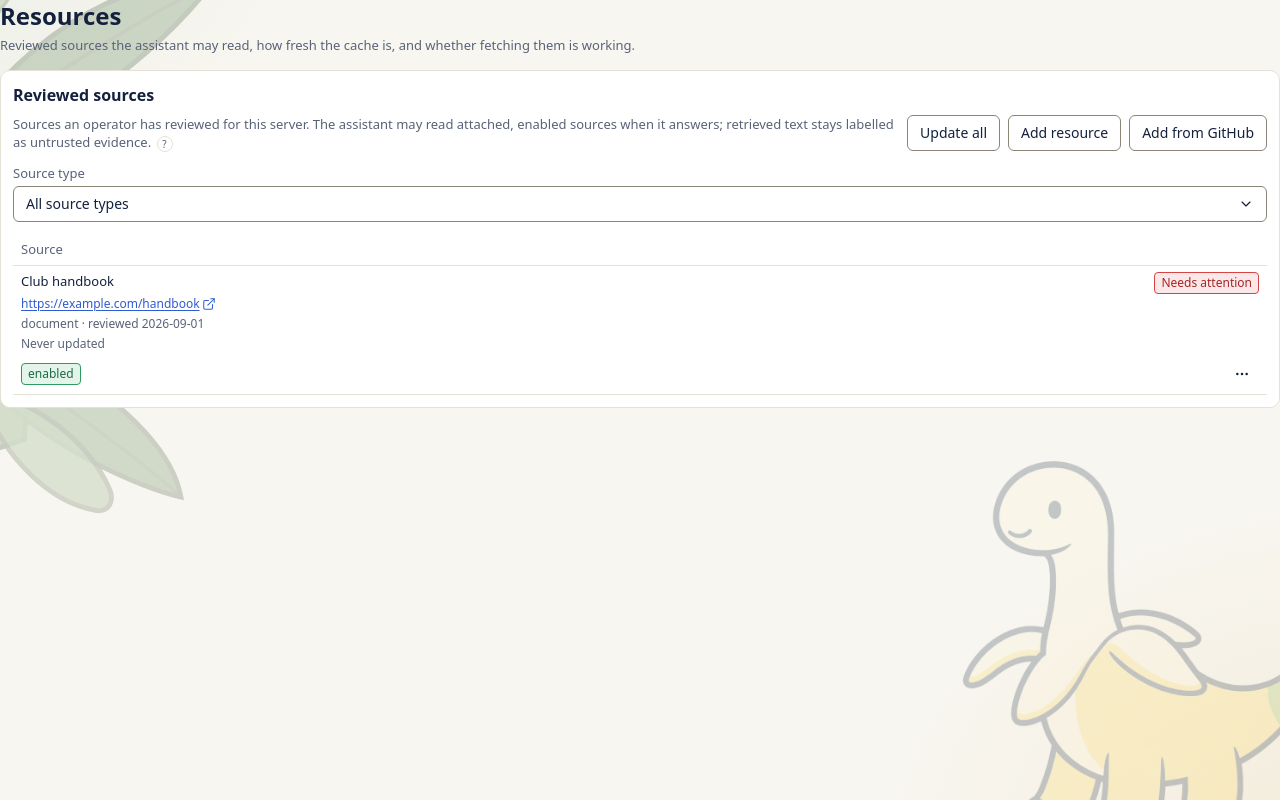
Test: uses the header fallback after successful save reloads the originating row
Click the button named "Actions for Club handbook" at [1242, 374], box [1225,360,1259,388]
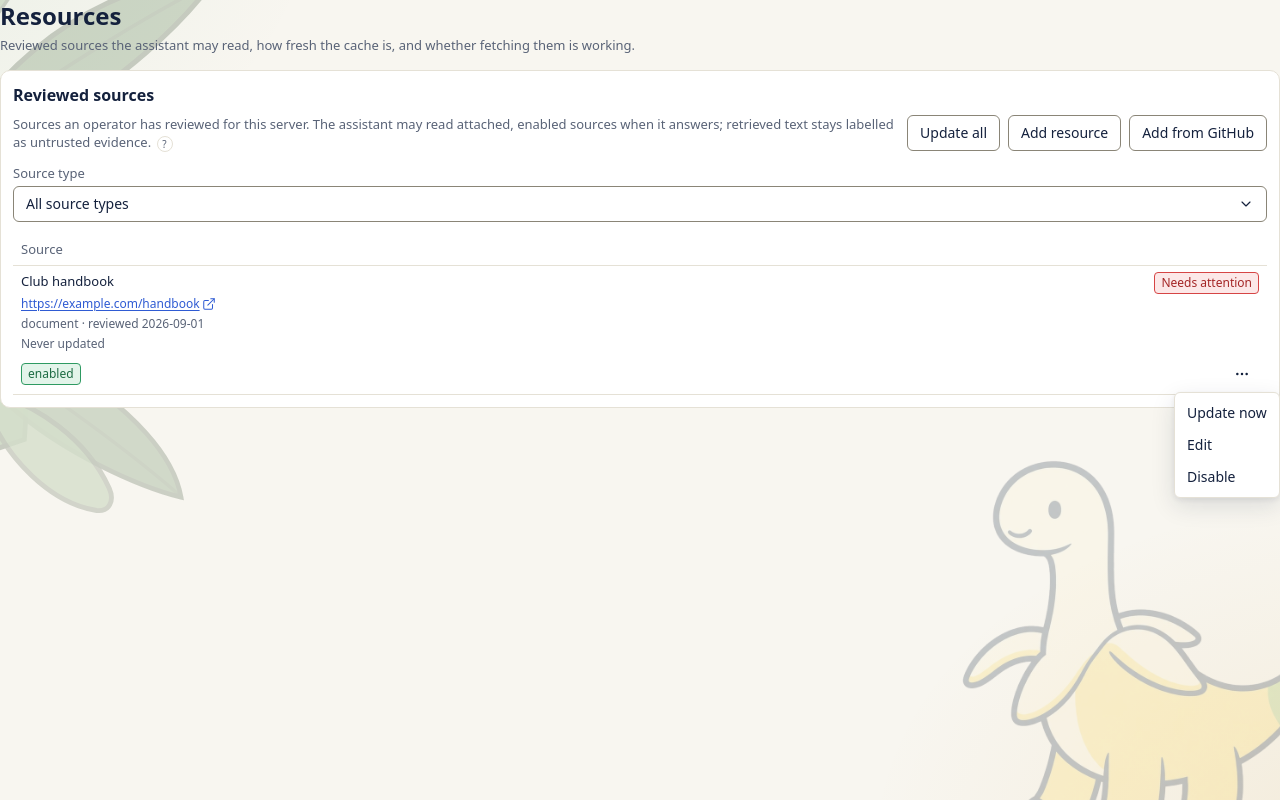
Click the menu item "Edit" at [1200, 444], box [1187,435,1212,454]
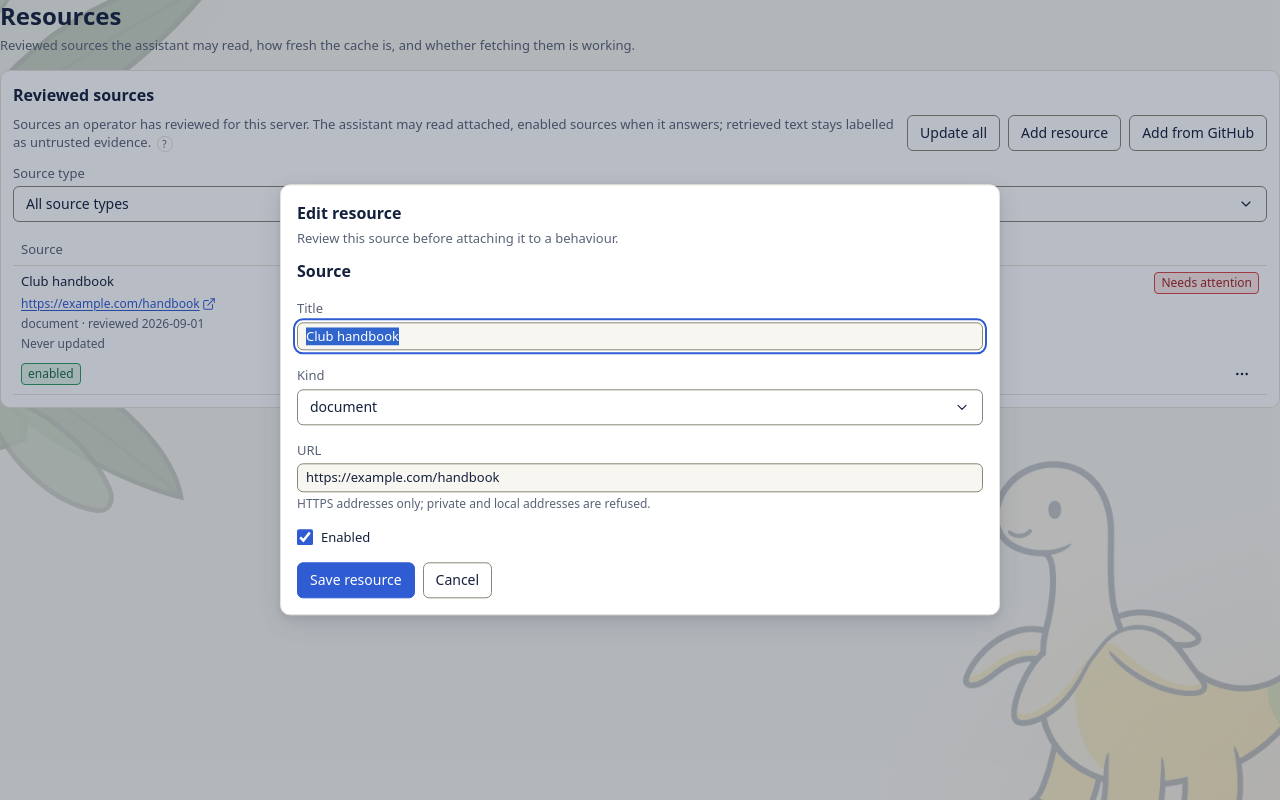
Click the button "Save resource" at [356, 581], box [297,563,414,599]
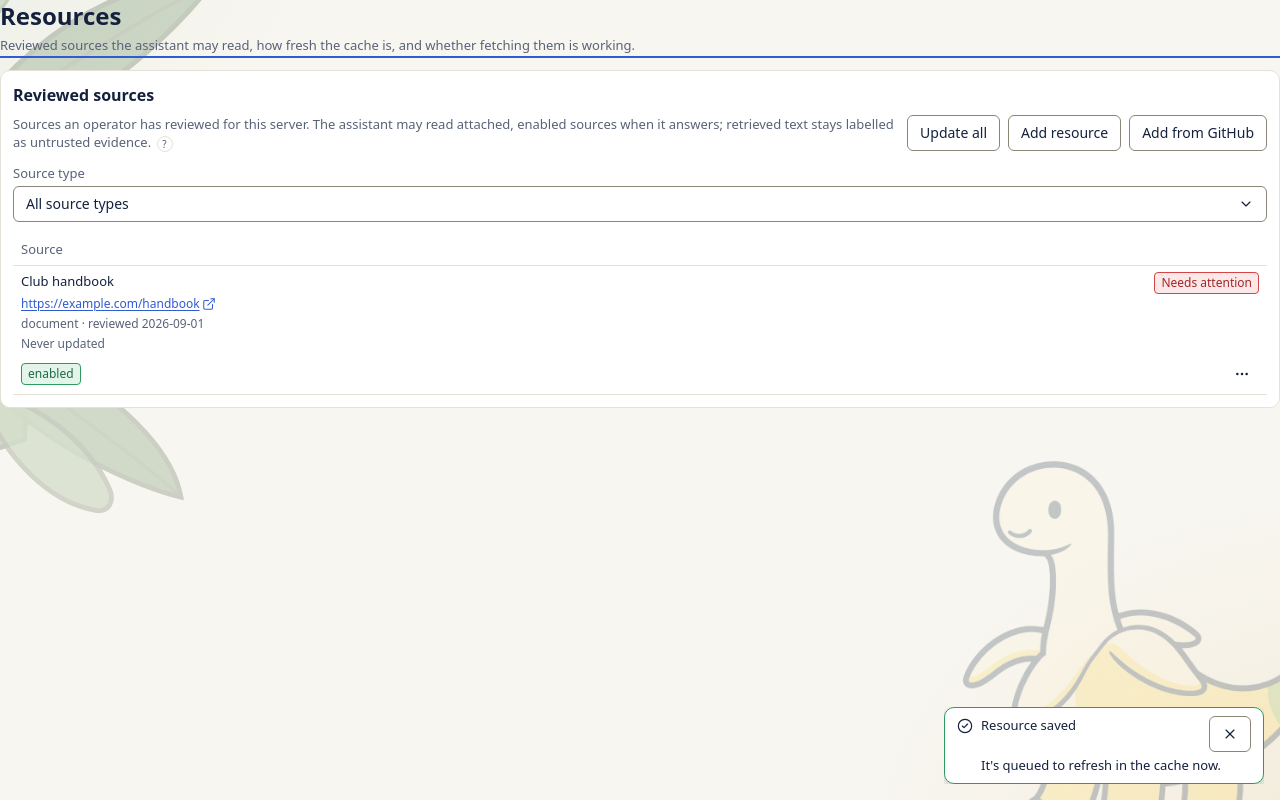
Now the text "Resource saved" is shown, box [981,716,1076,734]
Now the dialog is gone
